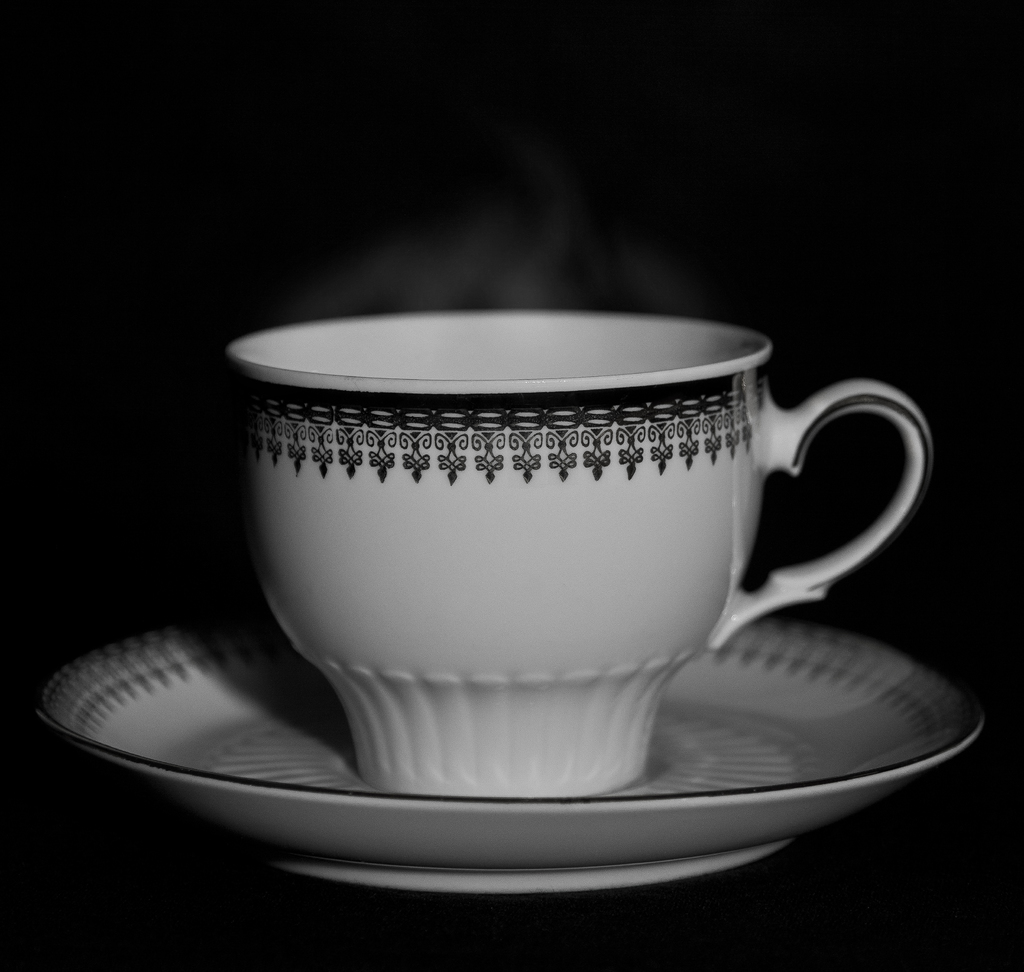plate: (34, 619, 985, 893)
